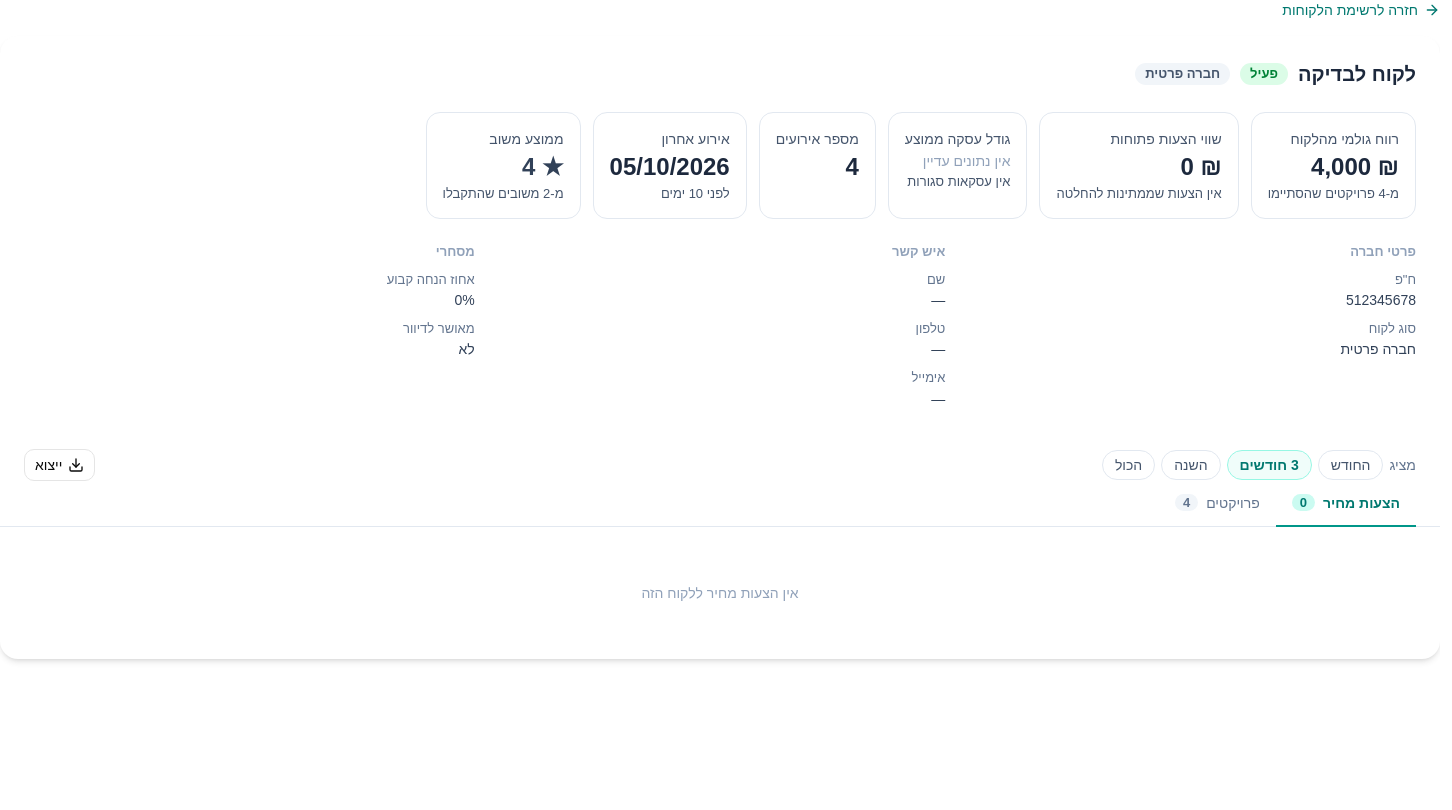
Test: כרטיס-לקוח · לשונית-פרויקטים — עמודת "שביעות רצון" › משוב שהושלם ⇒ תגית-תווית (בלי מספר בתוך התג); סקר שלא נענה ⇒ "—"
This screenshot has width=1452, height=810.
Step 1. Click the button with test id "customer-tab-projects" → (1217, 504), box [1159,481,1276,527]
(page scrolled)
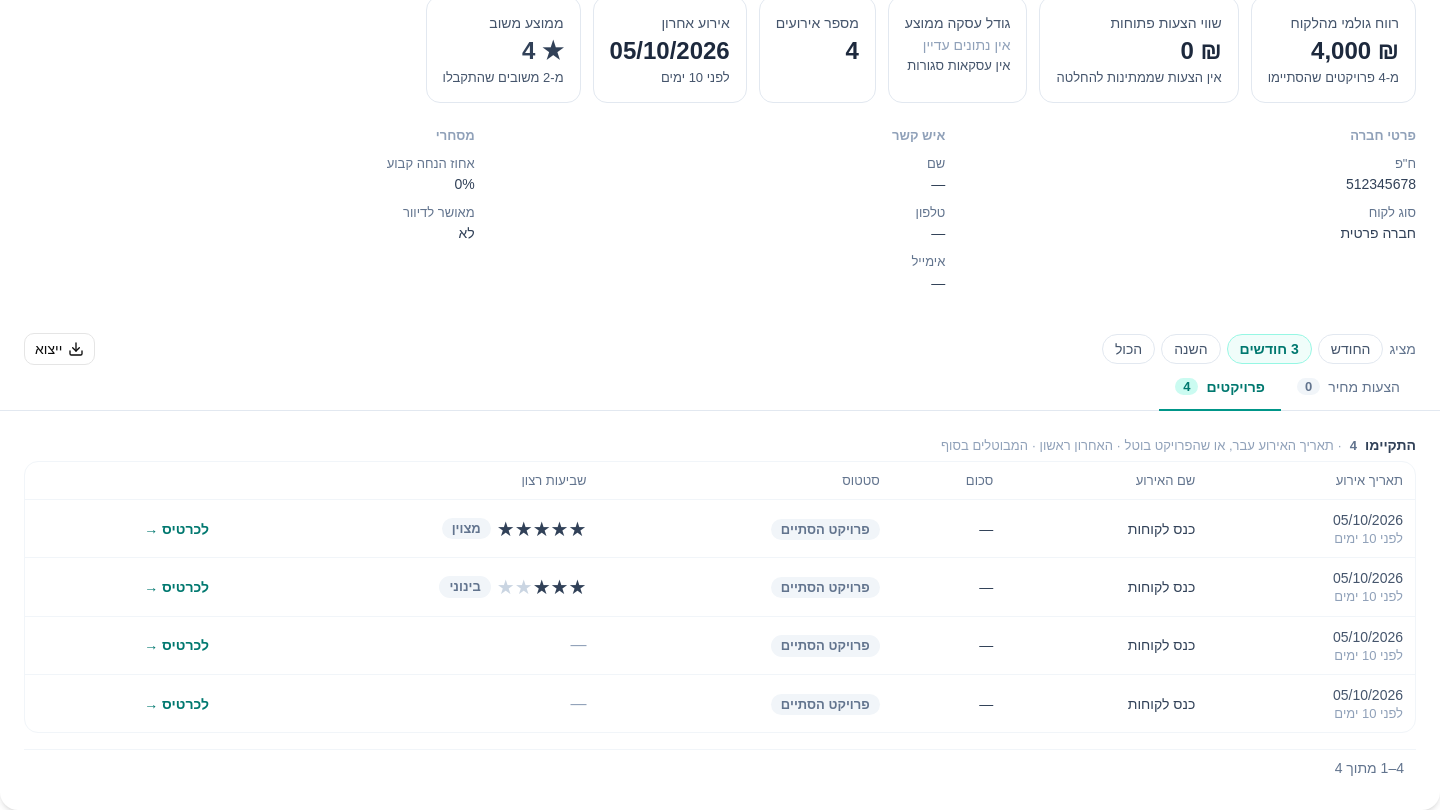
Expected: the column heading "שביעות רצון" is shown, [221,462,598,499]
Expected: the element with test id "customer-project-score-501" shows "מצוין", [452,521,481,536]
Expected: the element with test id "customer-project-score-502" shows "בינוני", [449,579,481,594]
